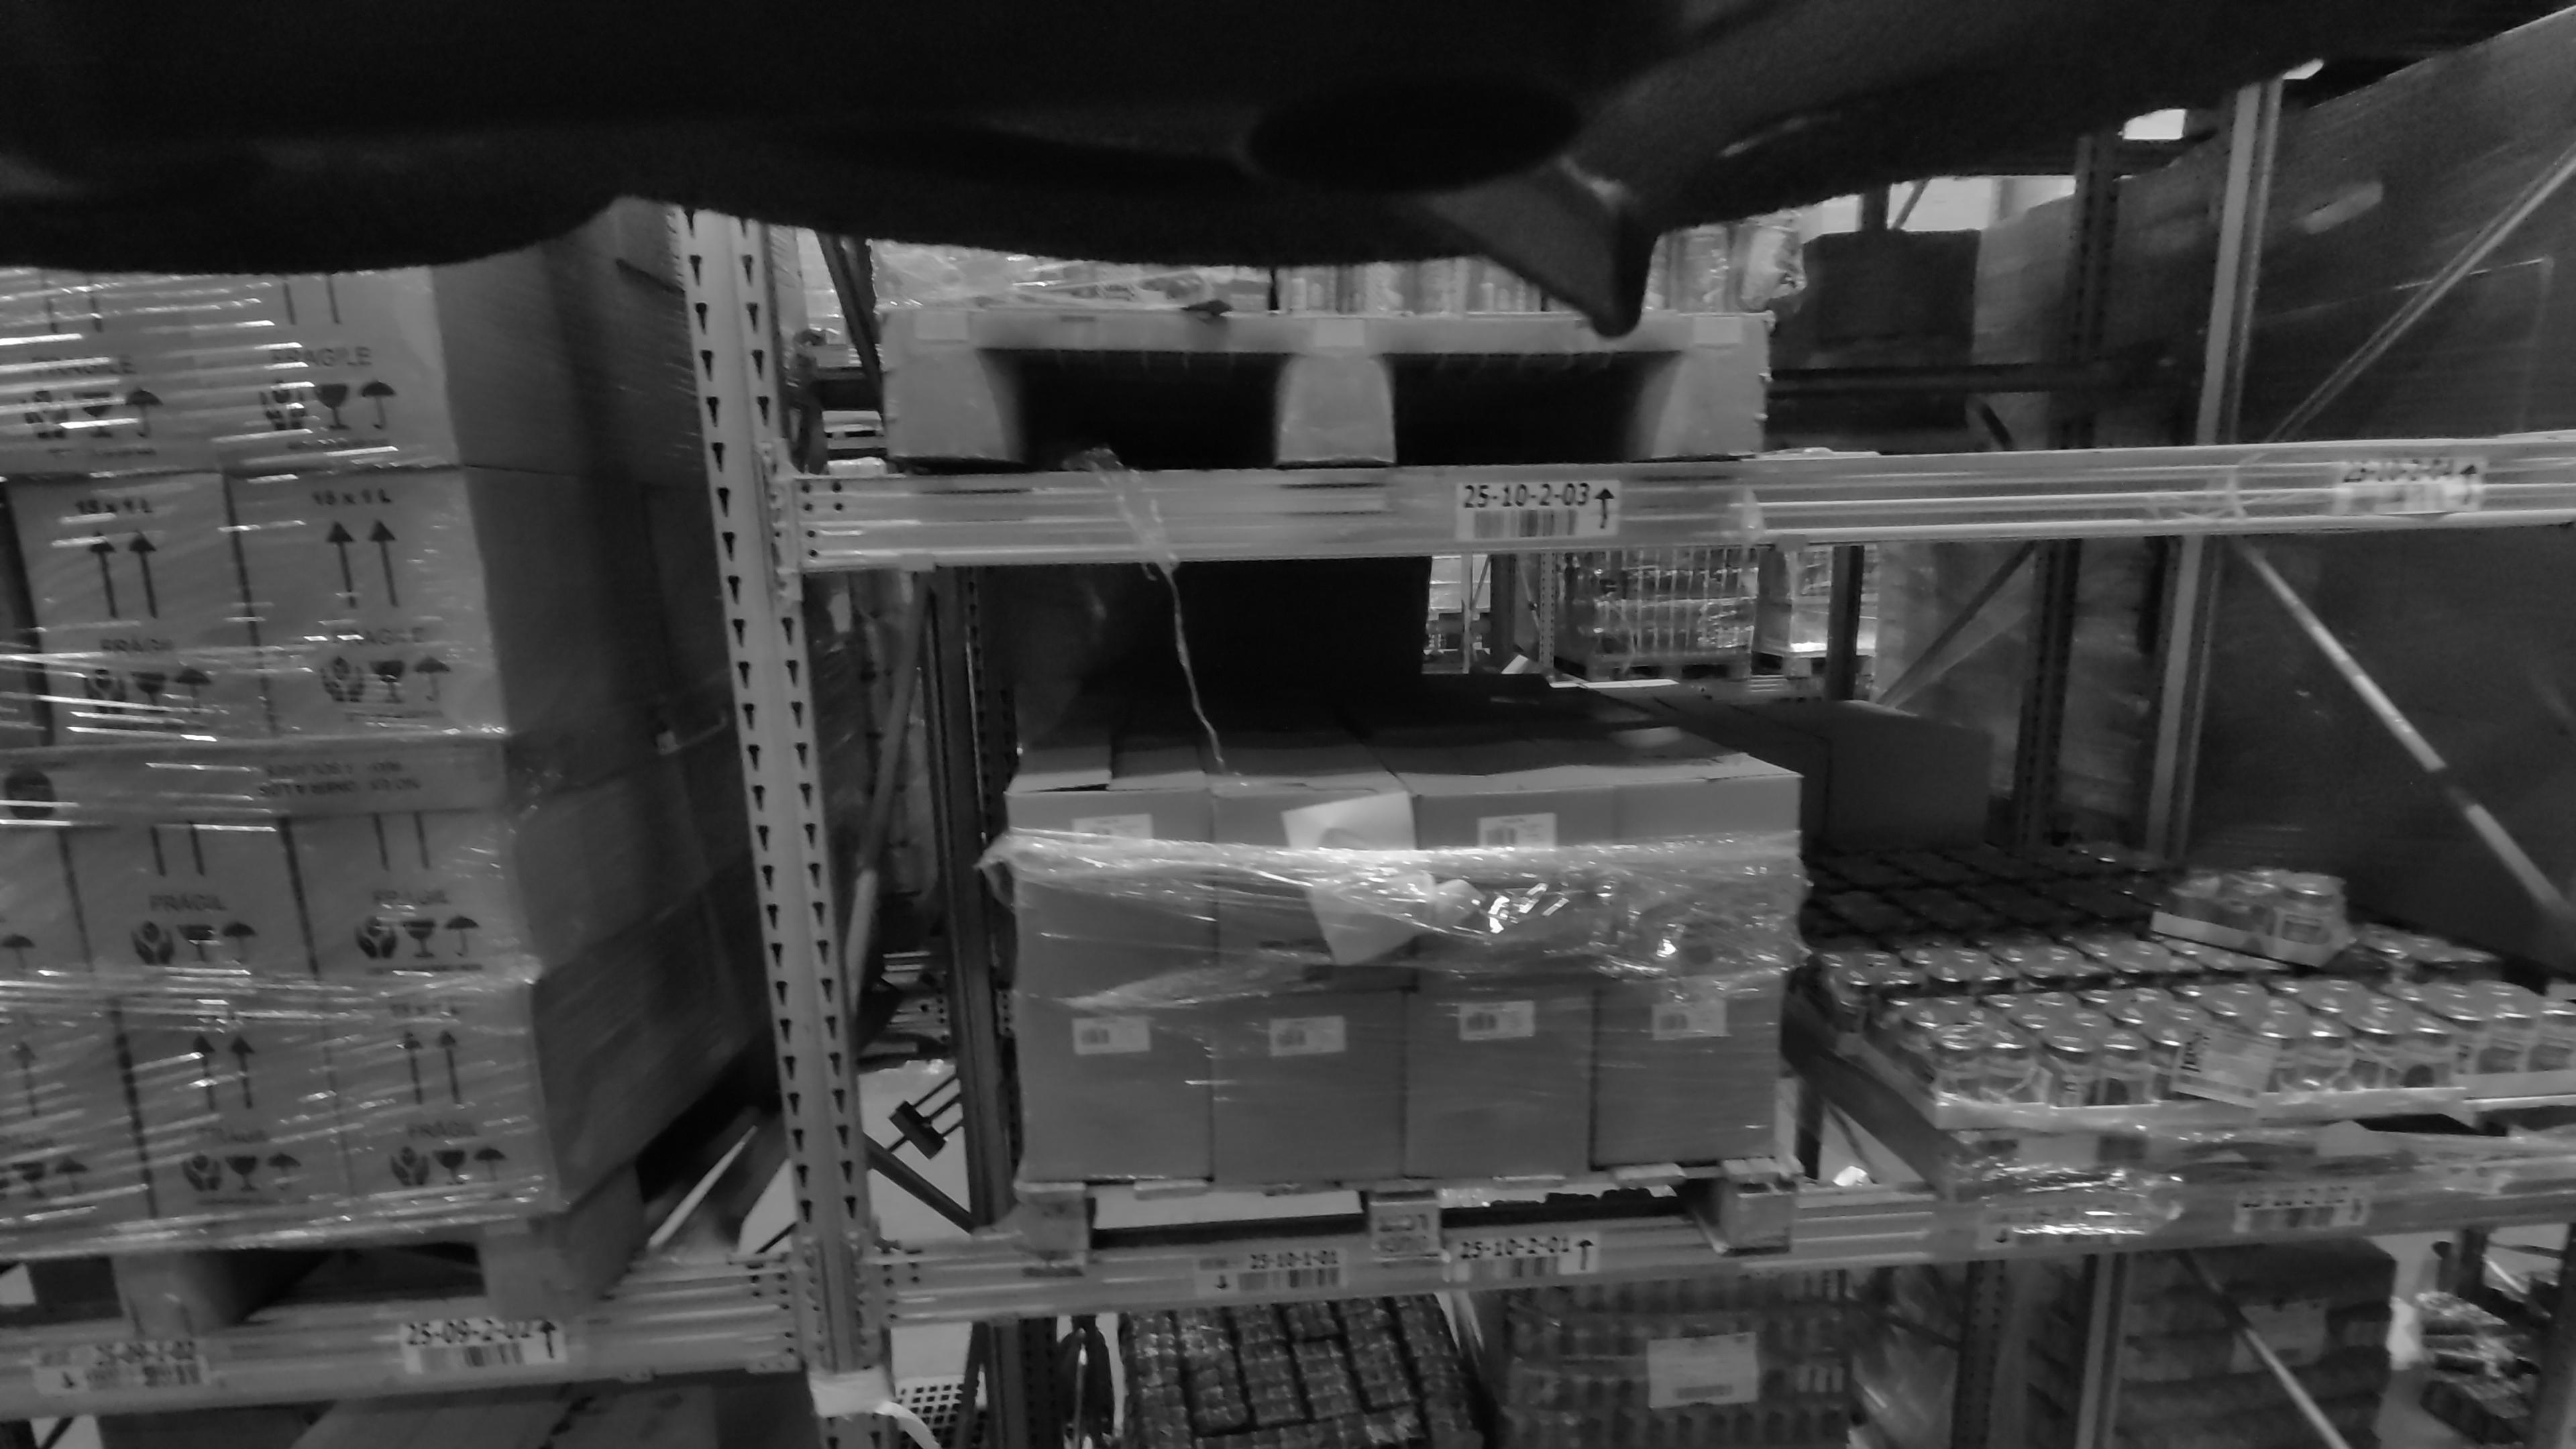empty-shelf: (1780, 50, 2576, 423)
